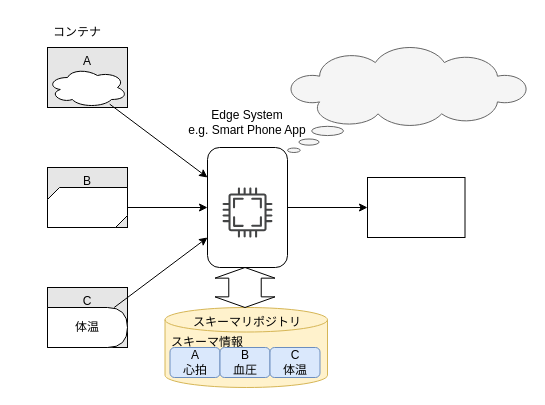
Some shapes in this 545 by 405 pixel diagram are drawn without their labels. Here are the shapes that lost their labels. From the top down, the centre of each, then its label:
At pixel 87 87: "心拍".
At pixel 407 99: "データはコンテナで届く 種類が増えたらリポジトリに聞く 共通処理による個別対応の減少".
At pixel 87 207: "血圧".
At pixel 415 207: "Service".
